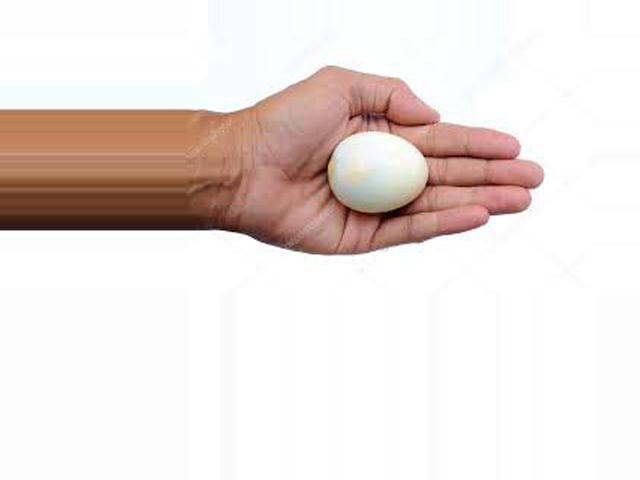egg: (328, 133, 430, 211)
